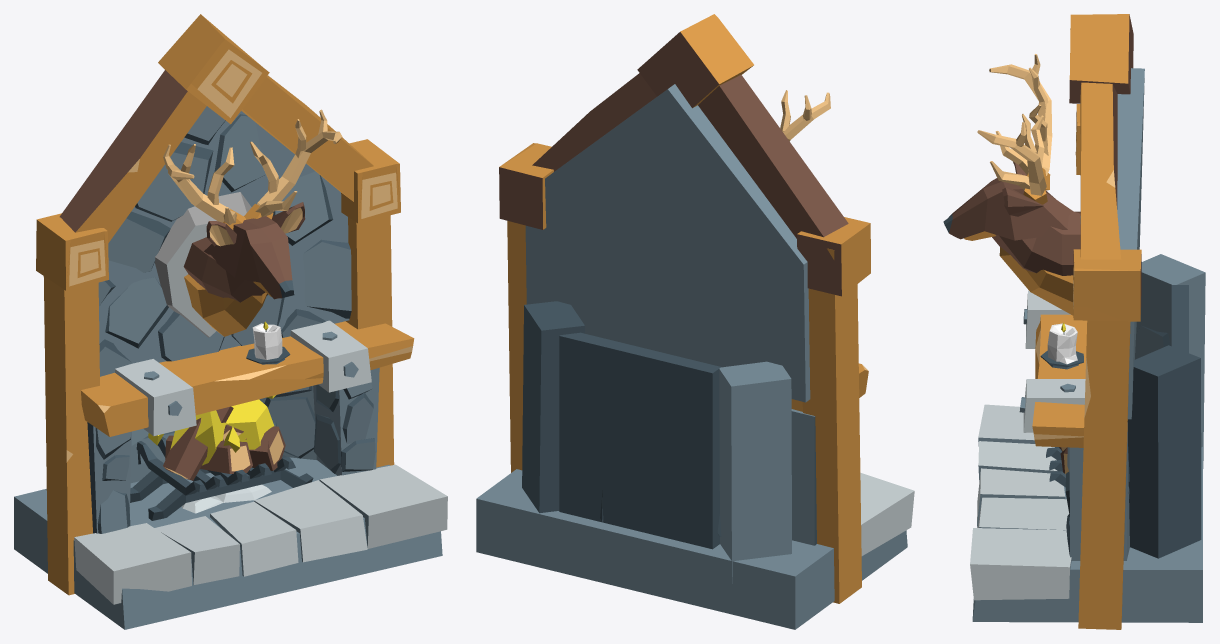
File: fireplace.glb
3 views of the same model, side by side, from view 1: azimuth 30°, elevation 25°; view 2: azimuth 150°, elevation 25°; view 3: azimuth 270°, elevation 25° (orthographic).
Parts seen in each view (by area): view 1: Fireplace; view 2: Fireplace; view 3: Fireplace.
Boxes of the visible parts, <box> form: Fireplace: <box>14,14,447,629</box>; Fireplace: <box>476,14,914,629</box>; Fireplace: <box>943,14,1205,629</box>.
Bounding box in the file's own units: 2.73 × 4.13 × 1.84.
